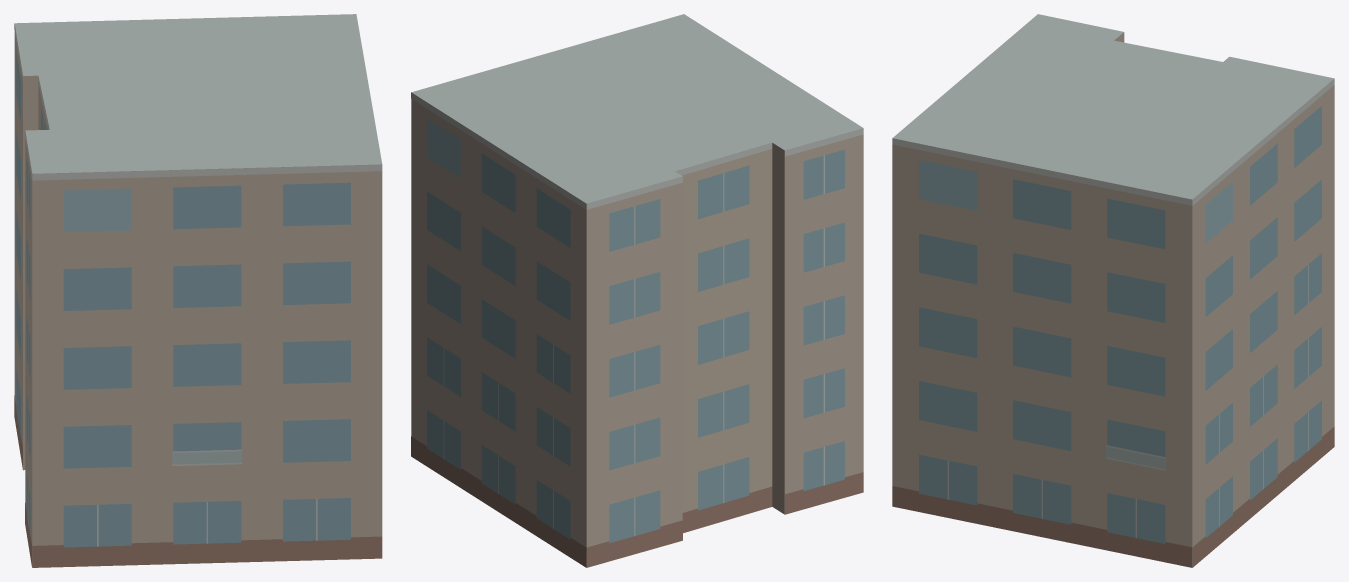
Rendered from survey-upis-33018788.glb.
3 views of the same model, side by side, from view 1: azimuth 30°, elevation 25°; view 2: azimuth 150°, elevation 25°; view 3: azimuth 270°, elevation 25° (orthographic). The views are drawn at different scales.
Visible parts, largest first — view 1: survey-upis-33018788.tmp; view 2: survey-upis-33018788.tmp; view 3: survey-upis-33018788.tmp.
Part boxes in pixels (x1,y1,x2,y2): survey-upis-33018788.tmp: (14,14,382,567); survey-upis-33018788.tmp: (411,14,863,567); survey-upis-33018788.tmp: (892,14,1334,567).
Bounding box in the file's own units: 15.35 × 14.2 × 15.47.
